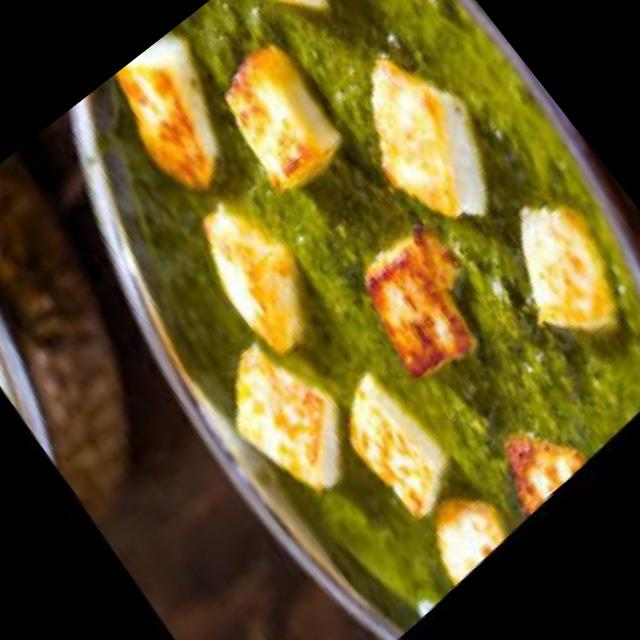palak_paneer: (6, 0, 640, 640)
